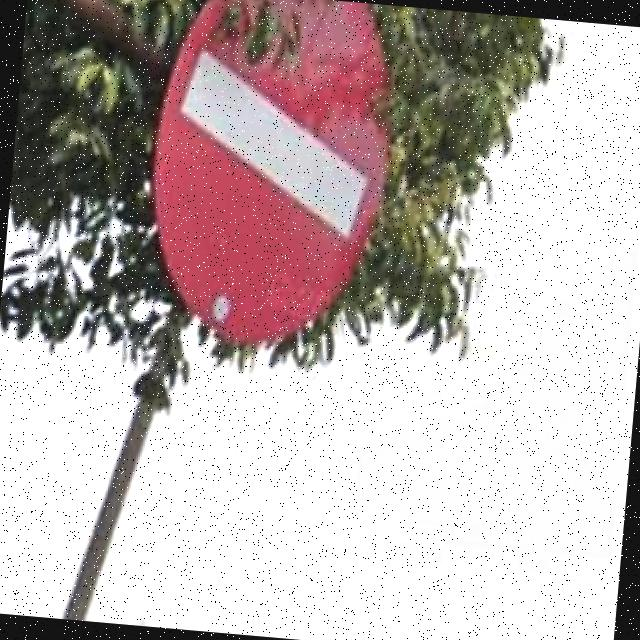Zakaz wjazdu: (144, 0, 402, 348)
